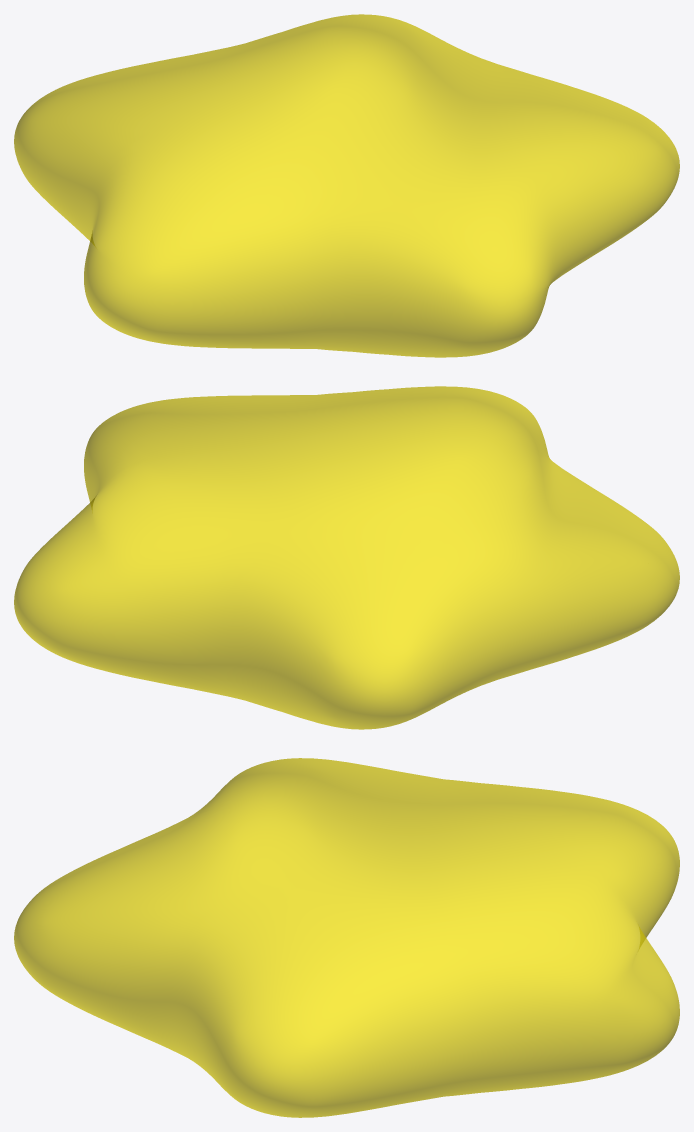
The model's file is Star2.glb.
3 views of the same model, one above another, from view 1: azimuth 30°, elevation 25°; view 2: azimuth 150°, elevation 25°; view 3: azimuth 270°, elevation 25° (orthographic). The views are drawn at different scales.
Visible parts, largest first — view 1: Cylinder.002; view 2: Cylinder.002; view 3: Cylinder.002.
Part boxes in pixels (x1,y1,x2,y2): Cylinder.002: [14, 14, 679, 357]; Cylinder.002: [14, 386, 679, 729]; Cylinder.002: [14, 758, 679, 1117].
Bounding box in the file's own units: 2.86 × 0.9262 × 2.74.
